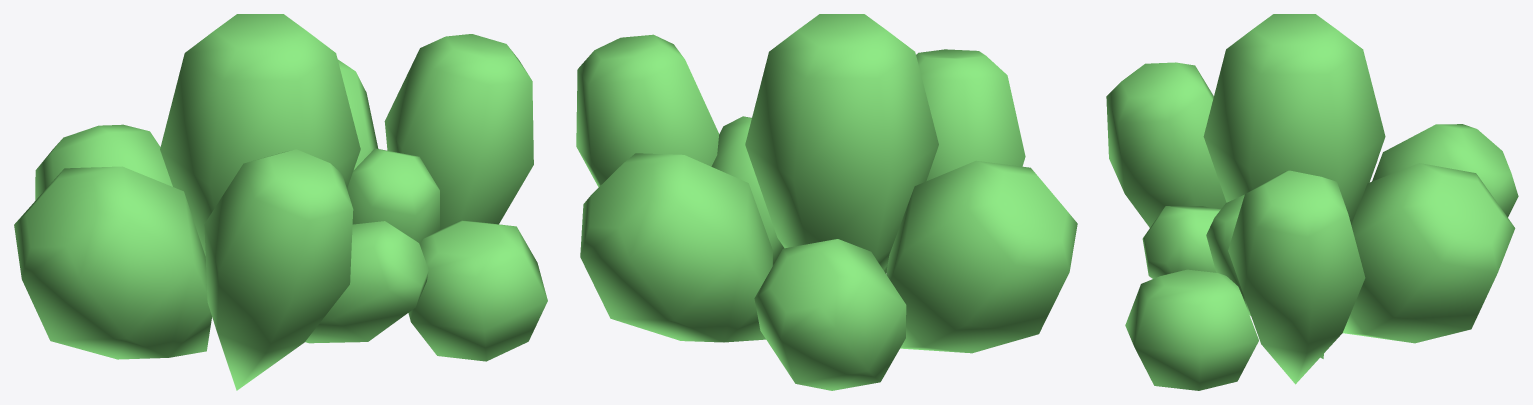
File: Fingersponge02.fbx
The picture shows the model from 3 angles, left to right: view 1: azimuth 30°, elevation 25°; view 2: azimuth 150°, elevation 25°; view 3: azimuth 270°, elevation 25°; orthographic projection. The views are drawn at different scales.
Parts seen in each view (by area): view 1: FingerSponge03; view 2: FingerSponge03; view 3: FingerSponge03.
Boxes of the visible parts, x1=… form: FingerSponge03: x1=14, y1=14, x2=547, y2=390; FingerSponge03: x1=576, y1=14, x2=1077, y2=390; FingerSponge03: x1=1106, y1=14, x2=1518, y2=390.
Bounding box in the file's own units: 425 × 252 × 333.
